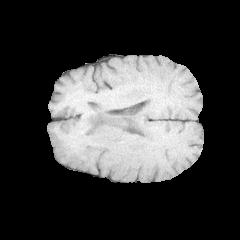glioma: (66, 115, 123, 149)
